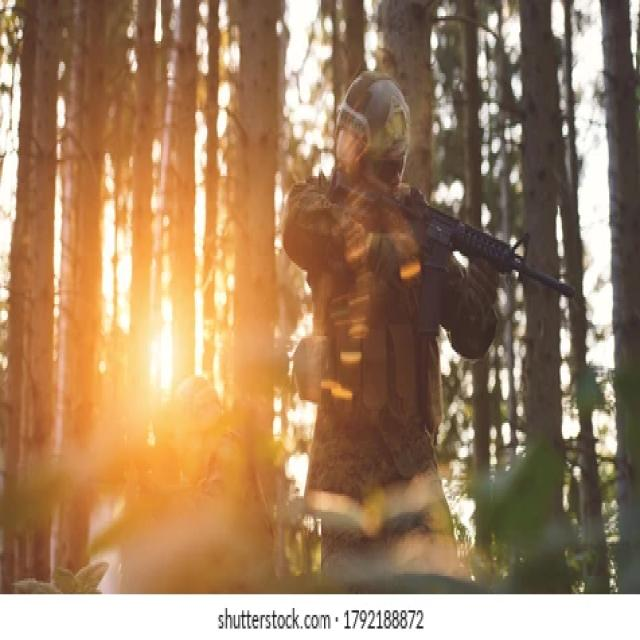soldier: (284, 61, 591, 596)
